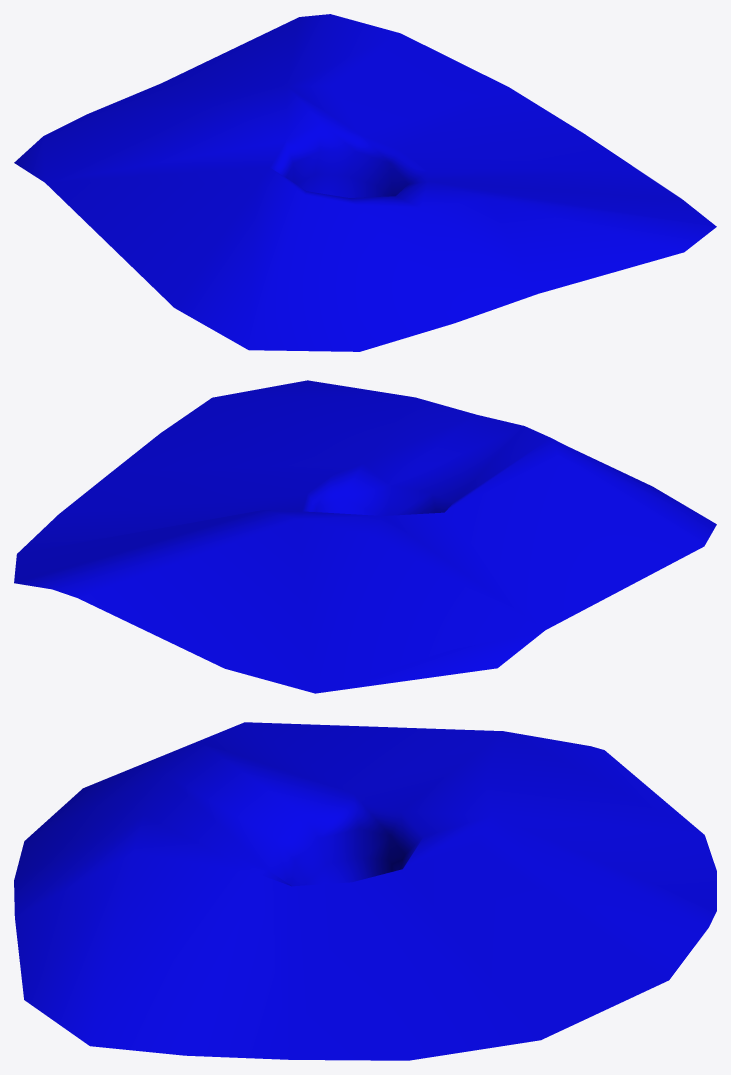
The model's file is CavernWall03.fbx.
3 views of the same model, one above another, from view 1: azimuth 30°, elevation 25°; view 2: azimuth 150°, elevation 25°; view 3: azimuth 270°, elevation 25° (orthographic). The views are drawn at different scales.
Parts seen in each view (by area): view 1: ndWAllsHighPoly3:Group9; view 2: ndWAllsHighPoly3:Group9; view 3: ndWAllsHighPoly3:Group9.
Boxes of the visible parts, <box> form: ndWAllsHighPoly3:Group9: <box>14,14,716,351</box>; ndWAllsHighPoly3:Group9: <box>14,380,716,693</box>; ndWAllsHighPoly3:Group9: <box>14,722,716,1060</box>.
Bounding box in the file's own units: 24.54 × 5.68 × 25.4.
